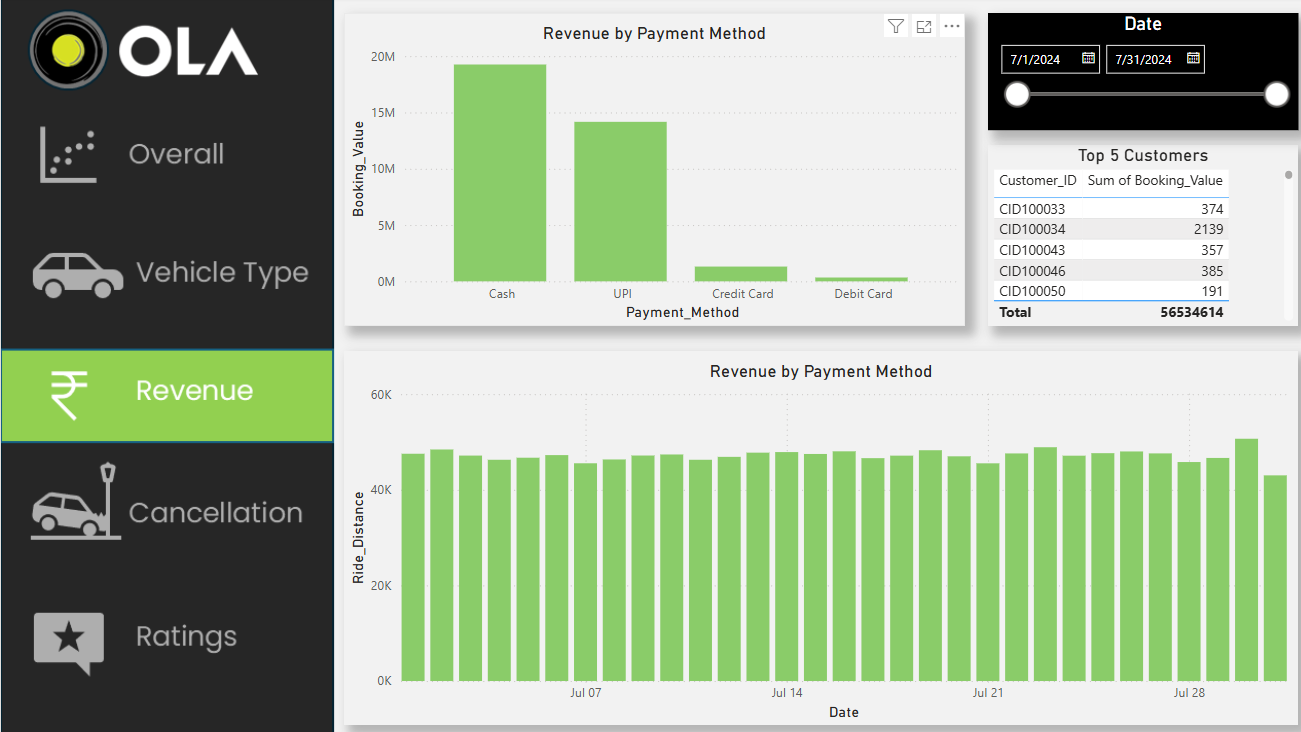

This screenshot's page, from the dashboard's own definition file:
{"tool":"powerbi","page":{"name":"Revenue","canvas":[1280,720],"ordinal":2},"visuals":[{"type":"actionButton","box":[0,215.1,324,104.5],"z":0},{"type":"actionButton","box":[0,441.7,324,104.5],"z":1000},{"type":"actionButton","box":[0,569,324,104.5],"z":2000},{"type":"actionButton","box":[0,106.2,324,104.5],"z":3000},{"type":"columnChart","title":"Revenue by Payment Method","fields":{"Y":["Sum(Bookings.Booking_Value)"],"Category":["Bookings.Payment_Method"]},"box":[334,16,604,304],"z":4000},{"type":"columnChart","title":"Revenue by Payment Method","fields":{"Y":["Sum(Bookings.Ride_Distance)"],"Category":["Bookings.Date"]},"box":[334,344,928,364],"z":5000},{"type":"slicer","title":"Date","fields":{"Values":["Bookings.Date"]},"box":[960,16,302,114],"z":6000},{"type":"tableEx","title":"Top 5 Customers","fields":{"Values":["Bookings.Customer_ID","Sum(Bookings.Booking_Value)"]},"box":[960,144,302,176],"z":7000}]}

Visuals, with their boxes in screenshot pixels (x1, y1, x2, y2), scaled from the page's 1280x720 canvas onto the 1301x732 screenshot:
actionButton: (0, 219, 329, 325)
actionButton: (0, 449, 329, 555)
actionButton: (0, 578, 329, 685)
actionButton: (0, 108, 329, 214)
"Revenue by Payment Method" columnChart: (339, 16, 953, 325)
"Revenue by Payment Method" columnChart: (339, 350, 1283, 720)
"Date" slicer: (976, 16, 1283, 132)
"Top 5 Customers" tableEx: (976, 146, 1283, 325)
